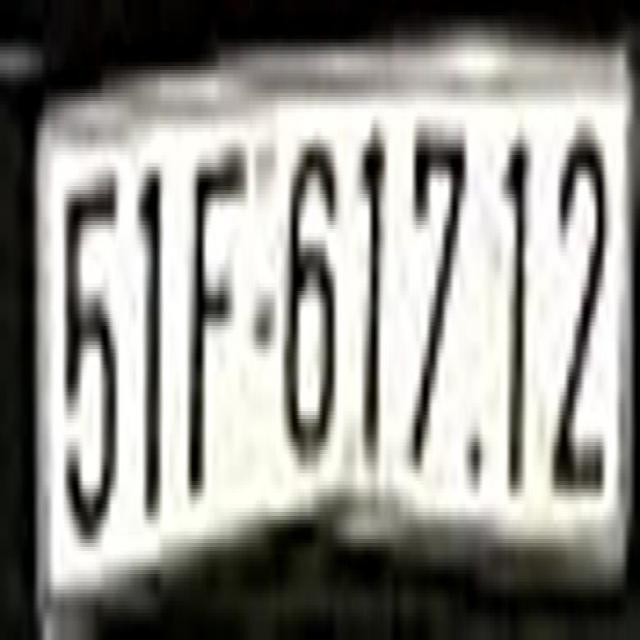1: (136, 155, 164, 504), (503, 116, 526, 496), (358, 120, 383, 454)
2: (556, 132, 607, 492)
5: (64, 175, 117, 528)
6: (292, 128, 338, 481)
7: (408, 116, 463, 458)
F: (188, 143, 247, 504)
